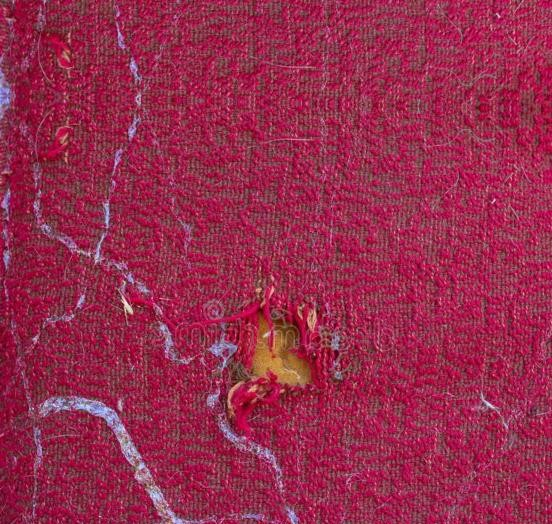hole: (225, 286, 327, 410)
